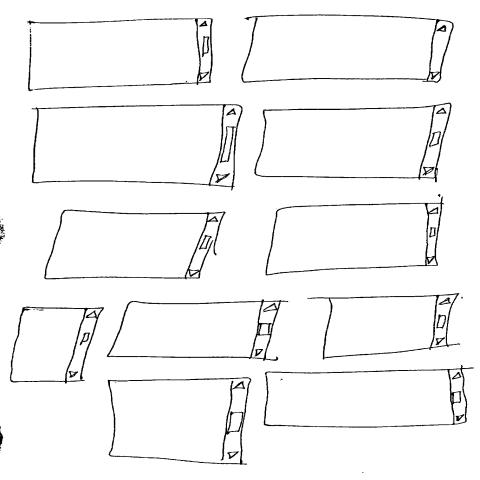Textarea: (33, 105, 243, 191), (255, 103, 452, 183), (267, 195, 445, 276), (242, 16, 454, 84), (28, 18, 213, 92), (265, 366, 475, 428), (108, 378, 252, 465), (45, 211, 226, 280), (107, 301, 289, 362), (308, 294, 461, 360), (11, 308, 105, 385)
